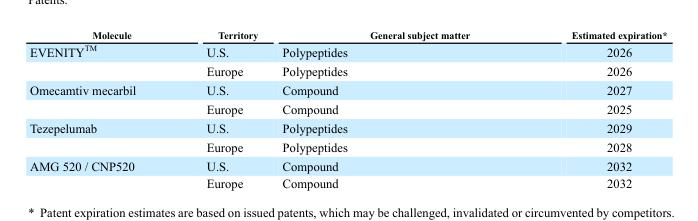table: (29, 28, 666, 189)
table column: (269, 28, 519, 189), (519, 28, 666, 189), (29, 28, 170, 189), (170, 28, 269, 189)
table column header: (29, 28, 666, 41)
table row: (29, 41, 666, 61), (29, 61, 666, 80), (29, 98, 666, 117), (29, 117, 666, 136), (29, 136, 666, 155), (29, 155, 666, 174), (29, 80, 666, 98), (29, 174, 666, 189), (29, 28, 666, 41)
table spanning cell: (29, 41, 170, 80), (29, 117, 170, 155), (29, 80, 170, 117), (29, 155, 170, 189)
